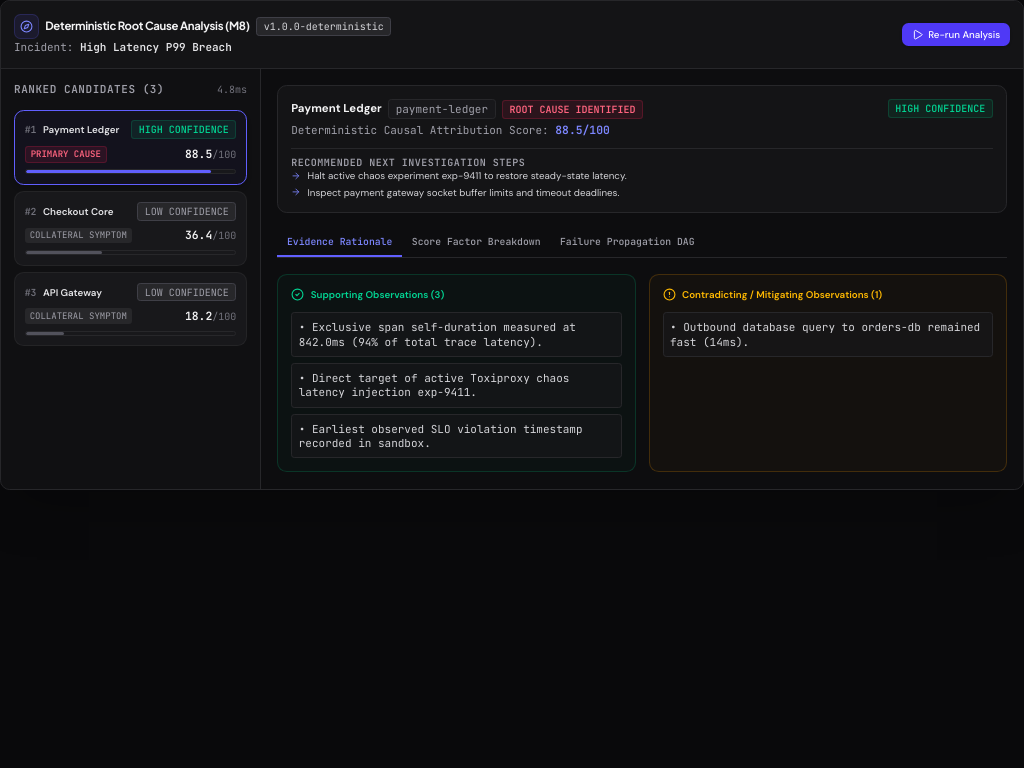
Test: Milestone M8: Deterministic Root Cause Analysis (RCA) Workspace UI › displays transparent score factor breakdown for selected candidate
Switch to Score Factor Breakdown tab
Click the button "Score Factor Breakdown" at (476, 243), box [402,229,550,257]
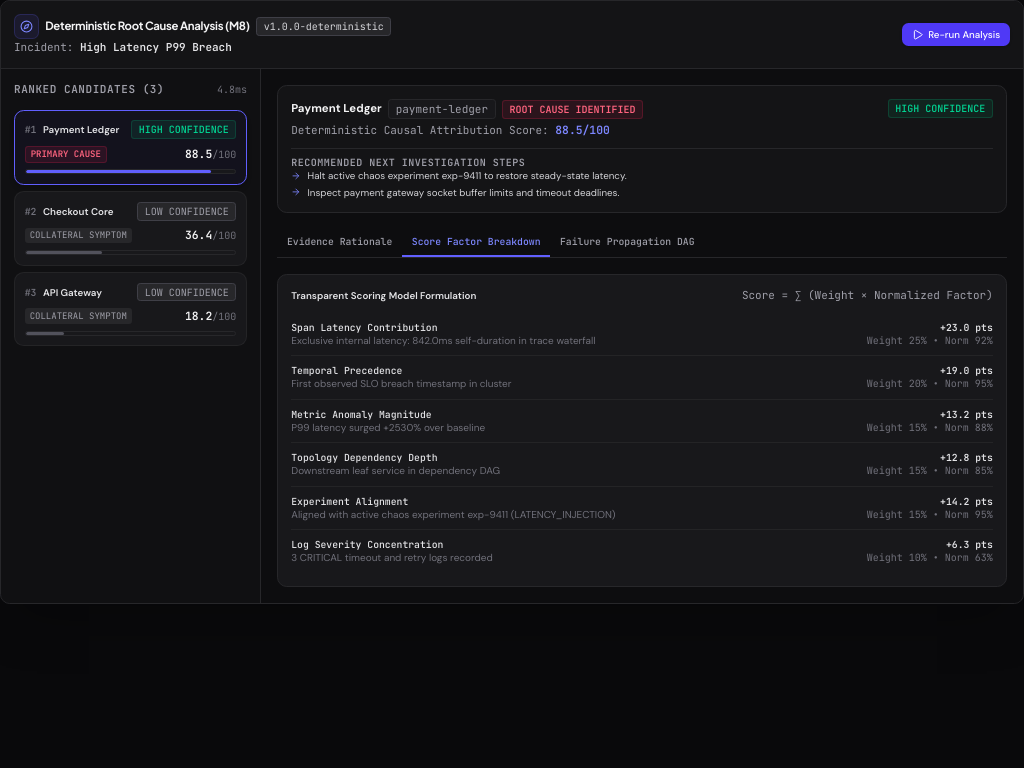
expect the text "Span Latency Contribution" is shown: met, box [291,320,438,334]
expect the text "Temporal Precedence" is shown: met, box [291,364,402,377]
expect the text "Metric Anomaly Magnitude" is shown: met, box [291,408,432,421]
